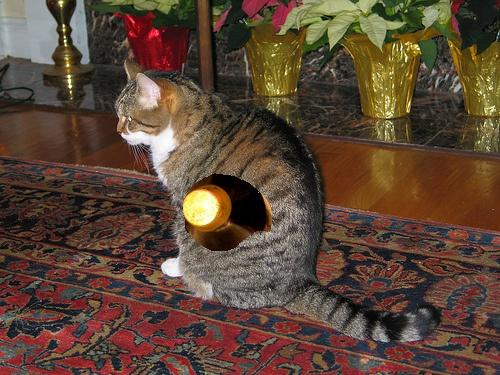tampered: (184, 174, 272, 251)
